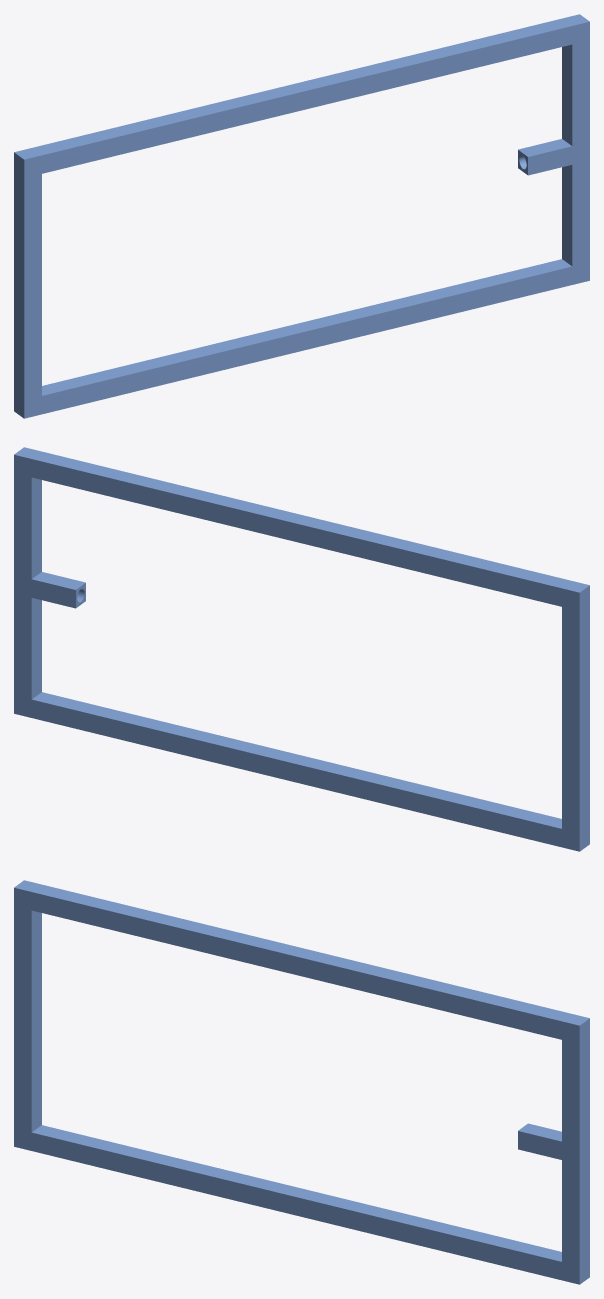
Rendered from Marco1.gltf.
The picture shows the model from 3 angles, top to bottom: view 1: azimuth 30°, elevation 25°; view 2: azimuth 150°, elevation 25°; view 3: azimuth 330°, elevation 25°; orthographic projection.
Visible parts, largest first — view 1: Part 2; view 2: Part 2; view 3: Part 2.
Part boxes in pixels (bbox=[...]): Part 2: bbox=[14, 14, 589, 418]; Part 2: bbox=[14, 447, 589, 851]; Part 2: bbox=[14, 880, 589, 1284].
Size of the model in its own units: 3.2 by 1.4 by 0.1.
